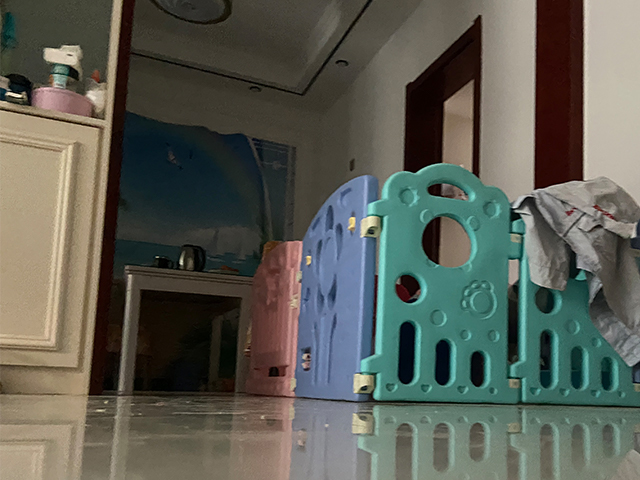cabinet: (1, 1, 134, 397)
table: (116, 261, 254, 398)
